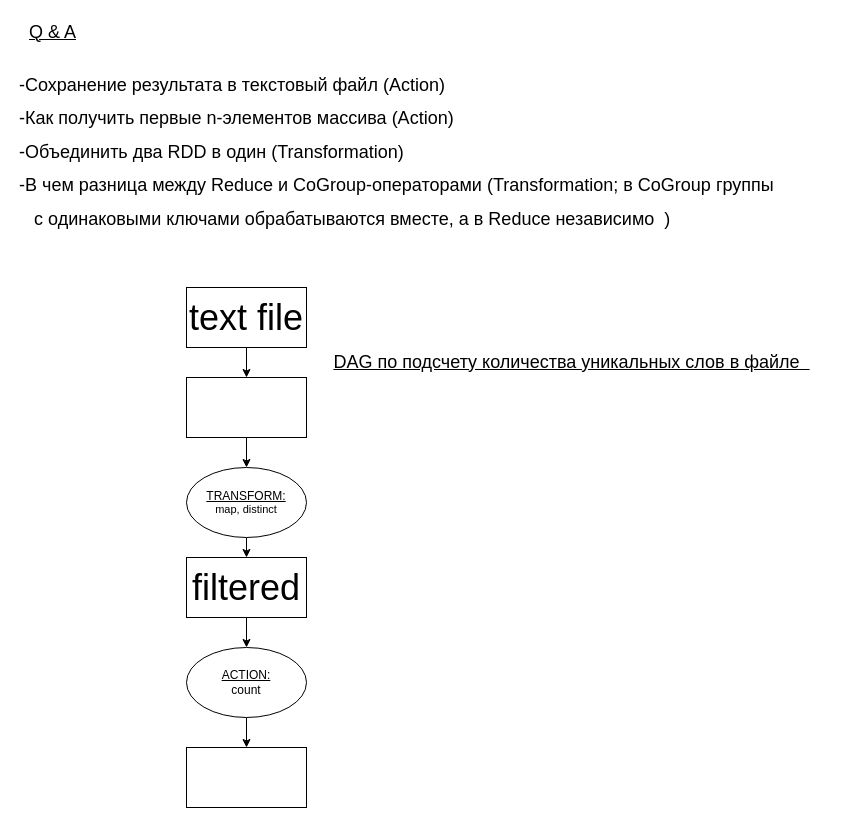
The diagram is 843 pixels wide and 825 high, and some of its shapes have lost their labels. The centre of each missing label's shape, as x and y in pixels:
count: [246,777]
rdd: [246,407]
